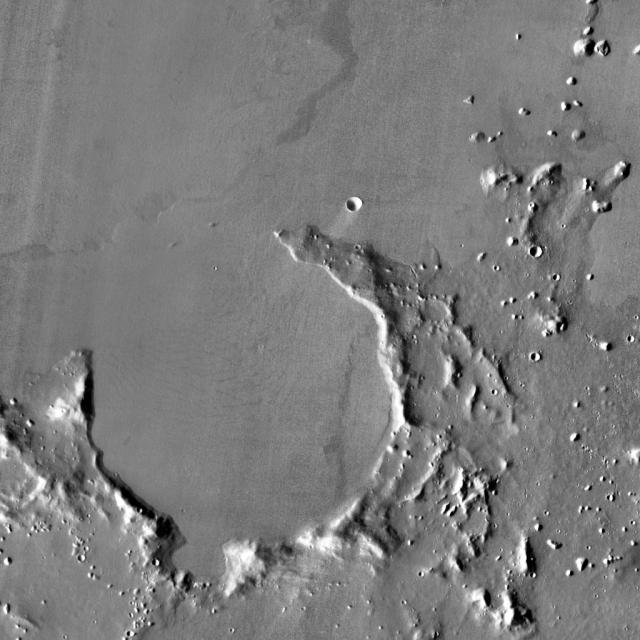crater: (80, 244, 410, 549), (0, 492, 159, 640), (350, 197, 364, 211), (530, 246, 542, 257), (532, 353, 541, 361), (80, 554, 88, 562), (552, 274, 560, 281), (628, 334, 636, 341), (146, 550, 153, 558)
